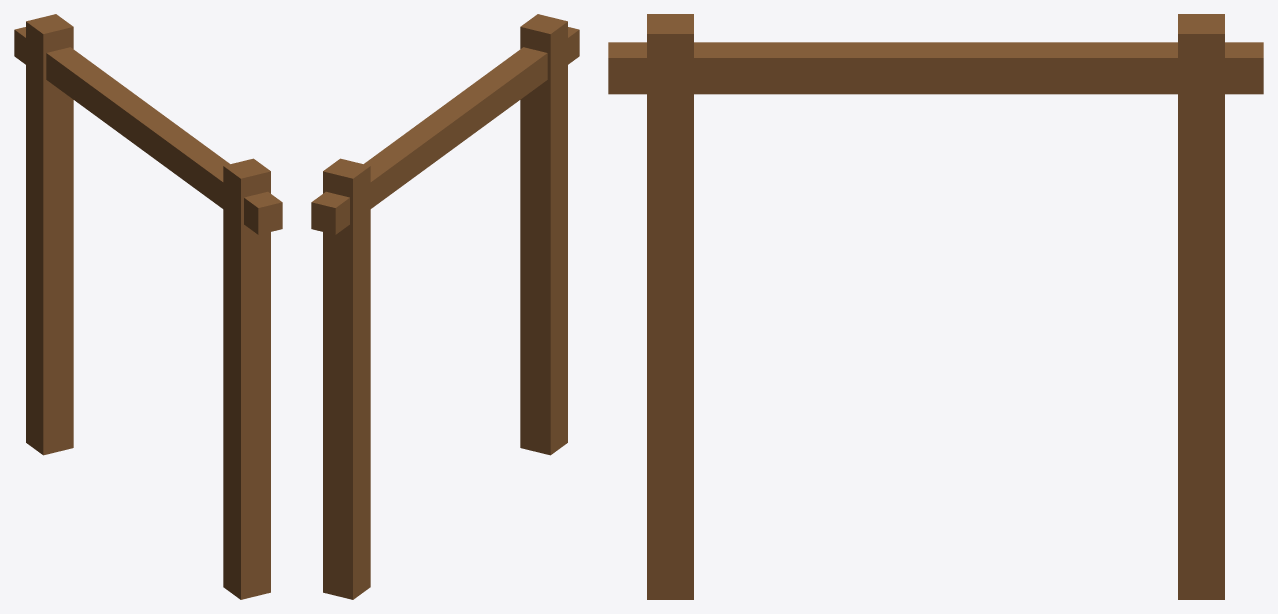
Rendered from LPCP_Hanging01.fbx.
The picture shows the model from 3 angles, left to right: view 1: azimuth 30°, elevation 25°; view 2: azimuth 150°, elevation 25°; view 3: azimuth 270°, elevation 25°; orthographic projection. The views are drawn at different scales.
Visible parts, largest first — view 1: LPCP_Hanging01; view 2: LPCP_Hanging01; view 3: LPCP_Hanging01.
Boxes of the visible parts, box(x1,y1,x2,y2) form: LPCP_Hanging01: box(14, 14, 282, 599); LPCP_Hanging01: box(311, 14, 579, 599); LPCP_Hanging01: box(608, 14, 1263, 599).
Bounding box in the file's own units: 0.3545 × 4.71 × 4.94.
